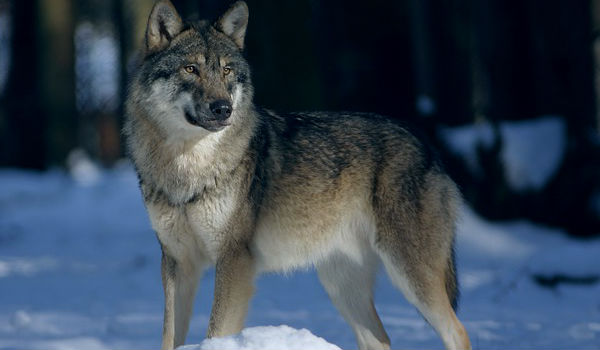Lobo: (120, 9, 500, 348)
